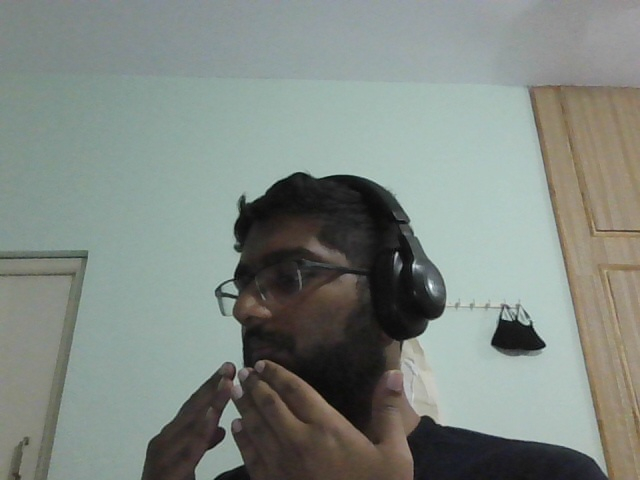Thank You: (139, 356, 436, 480)
